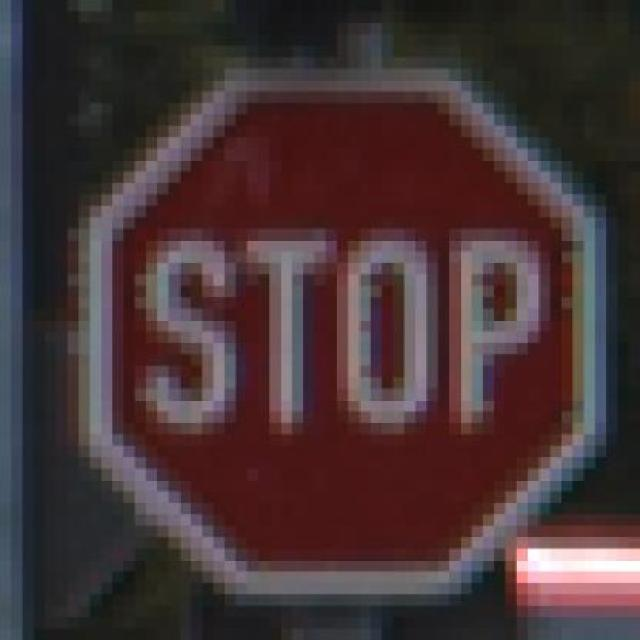Stop_Sign: (33, 57, 618, 617)
